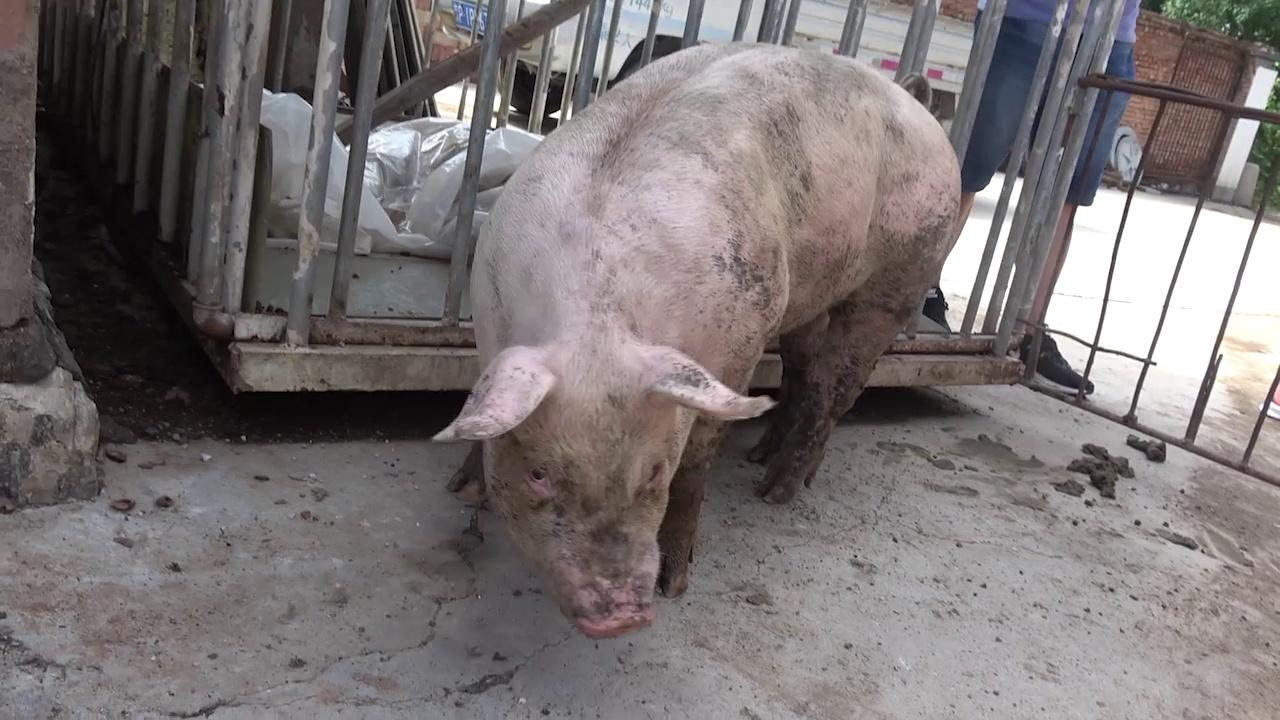Face: (425, 333, 777, 644)
